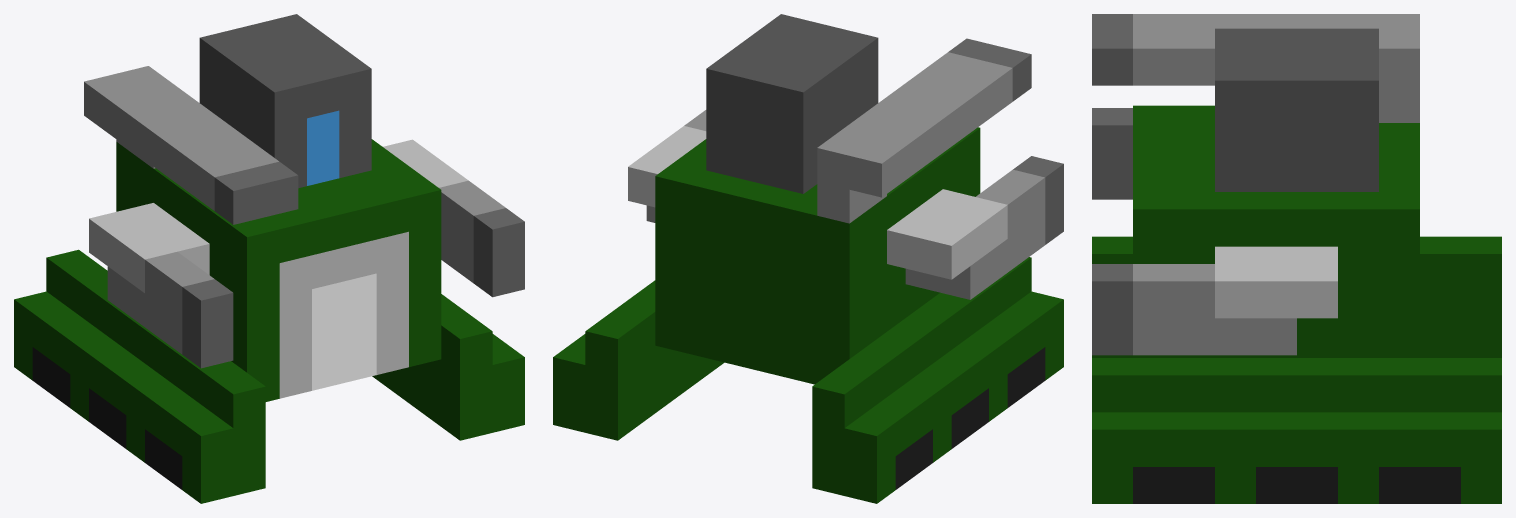
File: Tank.obj
The picture shows the model from 3 angles, left to right: view 1: azimuth 30°, elevation 25°; view 2: azimuth 150°, elevation 25°; view 3: azimuth 270°, elevation 25°; orthographic projection. The views are drawn at different scales.
Parts seen in each view (by area): view 1: Tank; view 2: Tank; view 3: Tank.
Boxes of the visible parts, <box> form: Tank: <box>14,14,524,503</box>; Tank: <box>553,14,1063,503</box>; Tank: <box>1092,14,1501,503</box>.
Bounding box in the file's own units: 10 × 10 × 10.
1 material, 1 textured.
